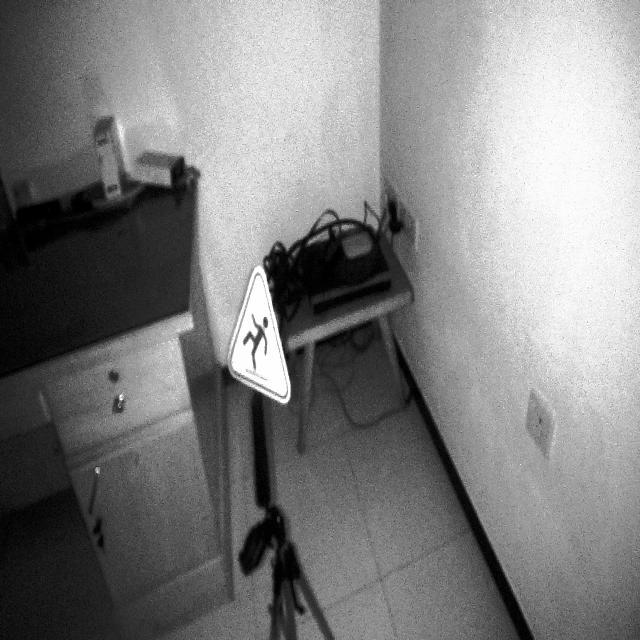Sign: (225, 263, 292, 405)
